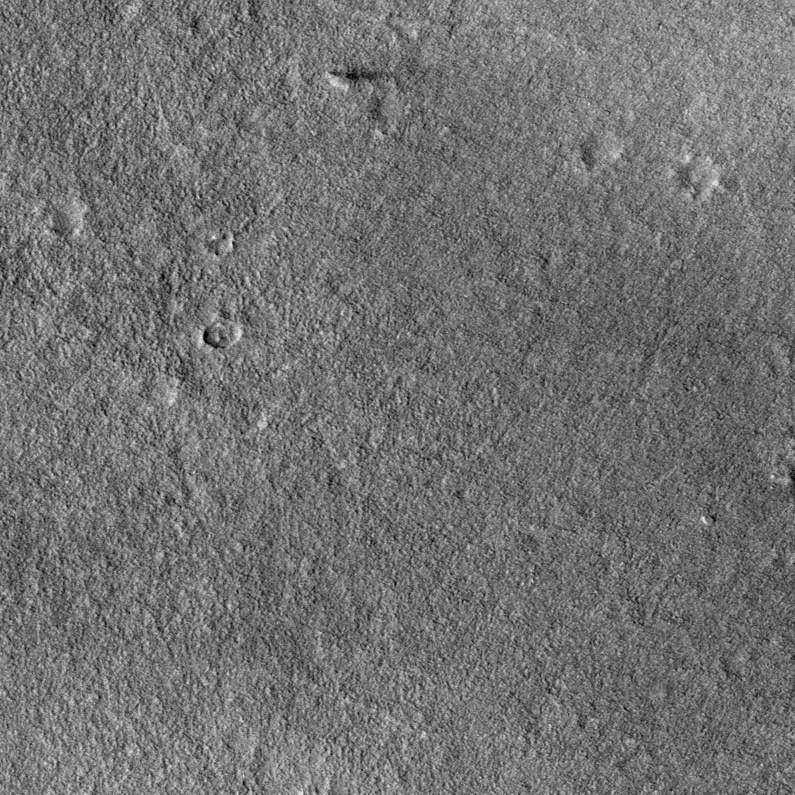dust_devil: (323, 68, 391, 93)
